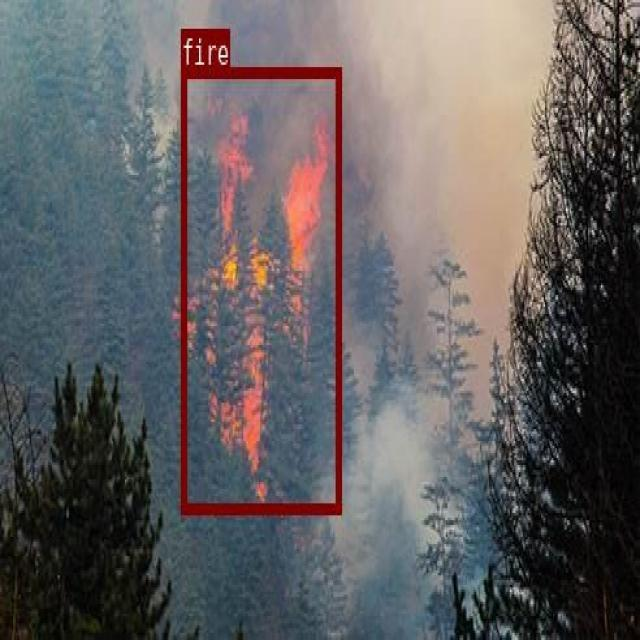fire: (180, 66, 341, 512)
